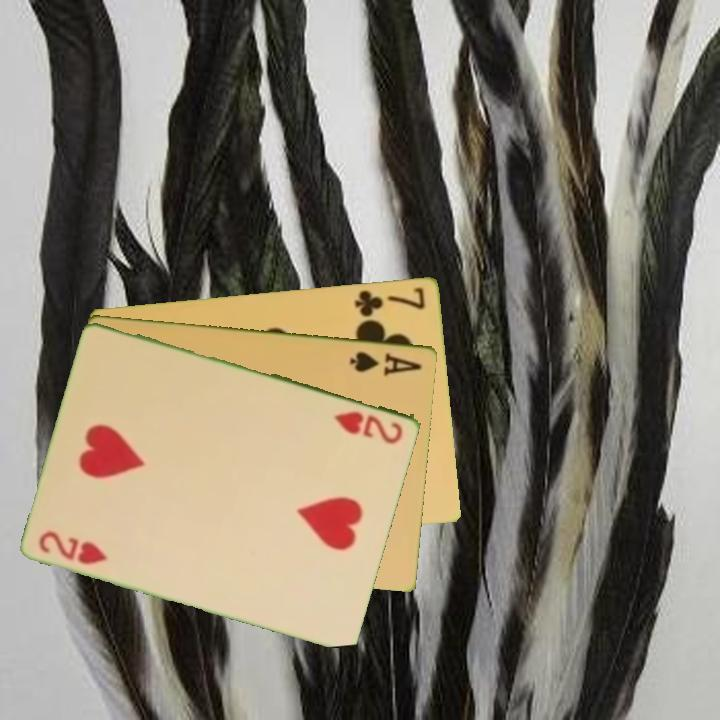2h: (35, 527, 111, 568), (330, 407, 407, 447)
7c: (351, 283, 428, 320)
As: (347, 347, 425, 379)
